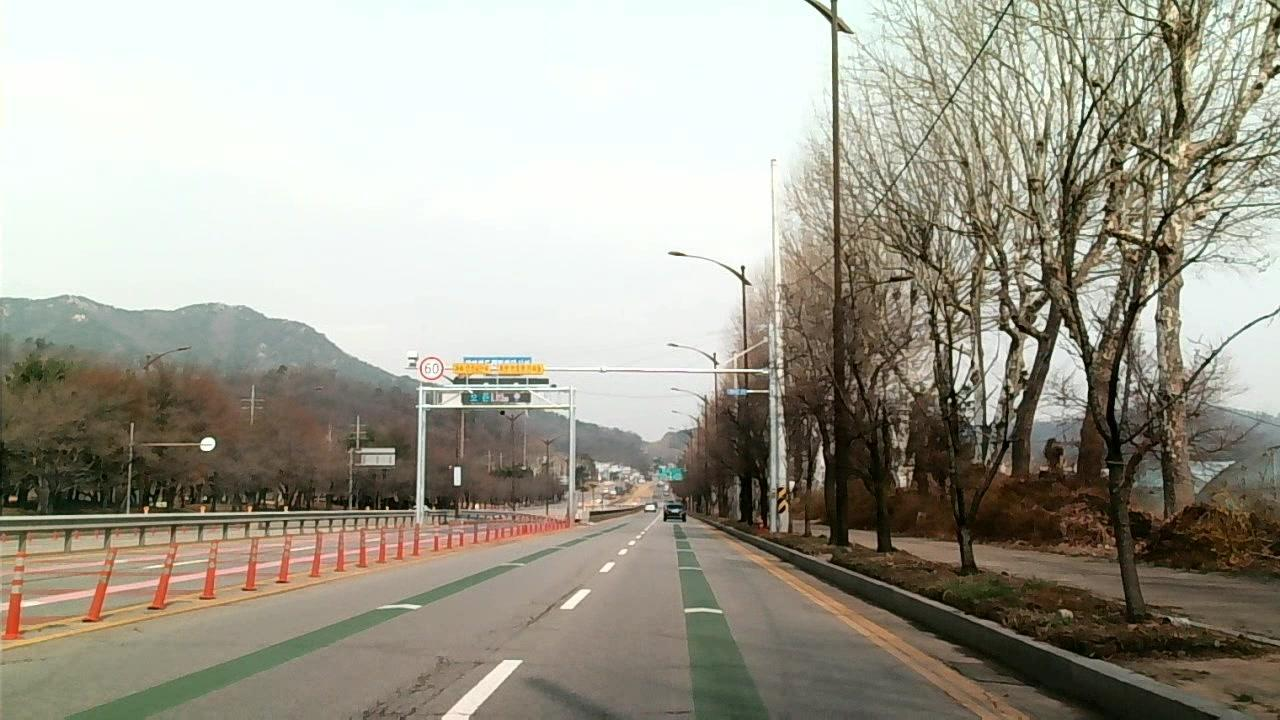banner: (359, 654, 485, 720), (525, 581, 580, 621)
